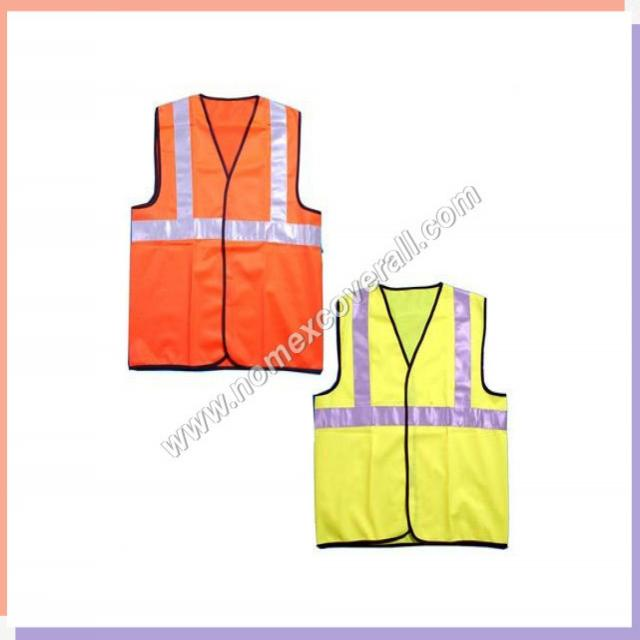Reflective-Jacket: (119, 90, 332, 373), (302, 277, 515, 554)
